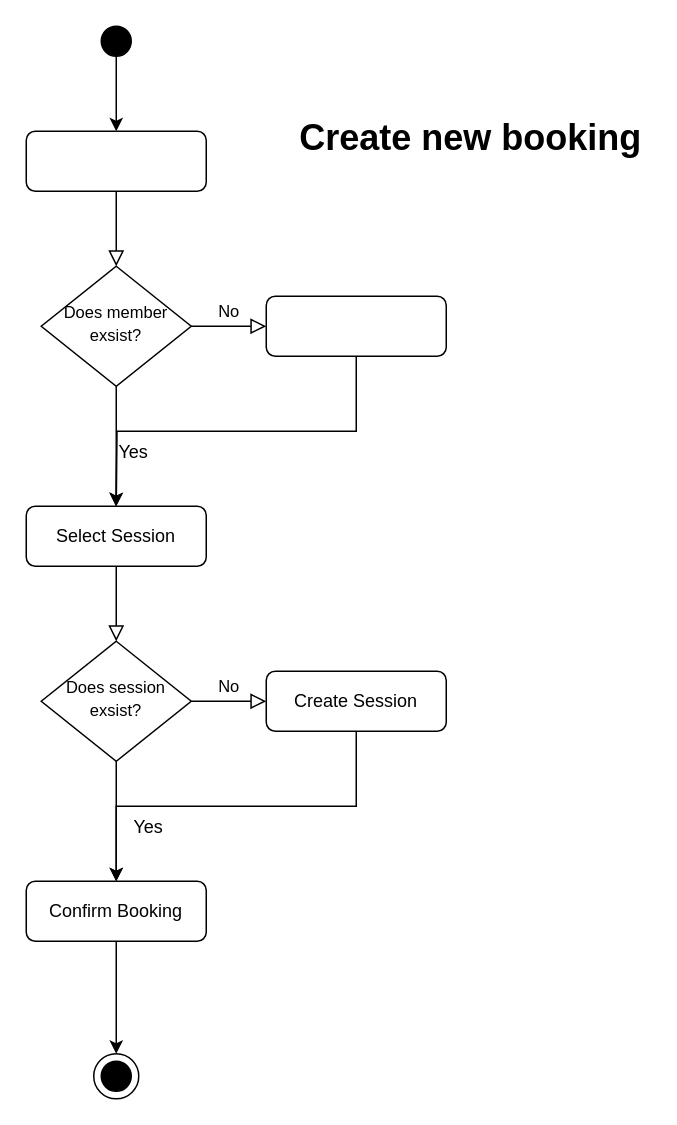
Image size: 677x1125. Some labels were removed from this diagram. Each missing label, with the centre of its shape:
"Create Member" belongs at (355,325).
"Select Member" belongs at (115,160).
